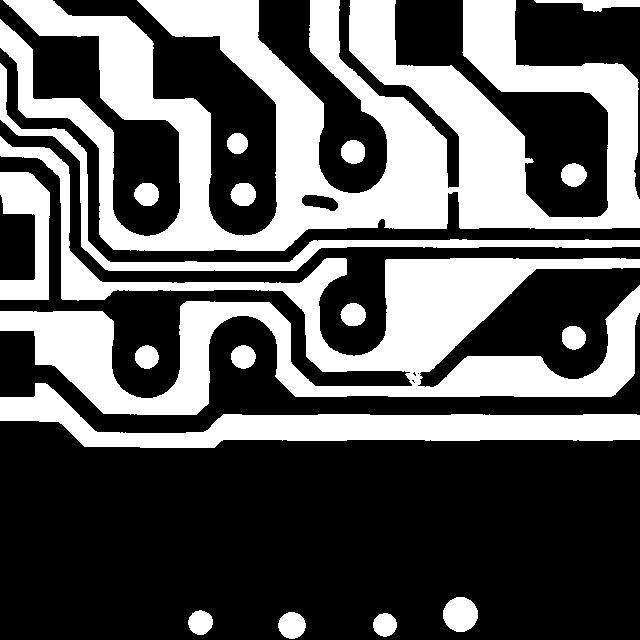copper: (292, 185, 347, 220)
mousebite: (511, 148, 543, 173)
open: (395, 356, 432, 397), (438, 177, 471, 203)
pin-hole: (433, 587, 487, 639), (217, 123, 257, 163)
spur: (368, 209, 394, 238)
